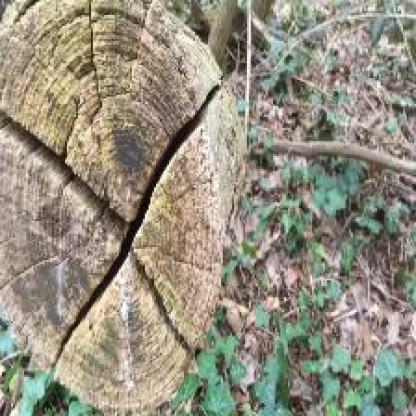other: (177, 175, 393, 346)
